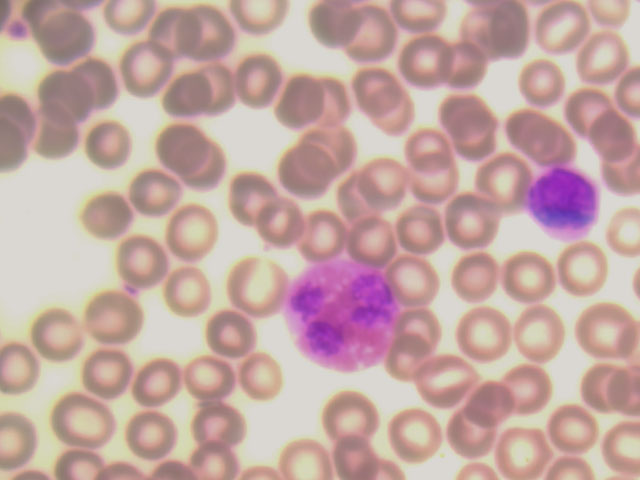Platelets: (4, 16, 29, 47)
RBC: (344, 58, 411, 121), (332, 4, 399, 67), (385, 22, 452, 85), (434, 35, 501, 98), (439, 93, 506, 156), (506, 98, 573, 161), (511, 50, 578, 113), (471, 149, 538, 212), (447, 193, 514, 256), (398, 198, 465, 261), (391, 247, 458, 310), (442, 244, 509, 307), (497, 245, 564, 308), (546, 238, 613, 301), (573, 300, 640, 363), (511, 301, 578, 364), (459, 301, 526, 364), (412, 349, 479, 412), (398, 300, 465, 363), (226, 256, 293, 319), (160, 264, 227, 327), (196, 297, 263, 360), (180, 340, 247, 403), (125, 357, 192, 420), (89, 348, 156, 411), (80, 289, 147, 352), (26, 298, 93, 361), (45, 386, 112, 449), (114, 406, 181, 469), (181, 390, 248, 453), (314, 379, 381, 442), (325, 417, 392, 480), (377, 404, 444, 467), (425, 408, 492, 471), (463, 364, 530, 427), (494, 357, 561, 420), (537, 394, 604, 457), (492, 417, 559, 480), (562, 357, 629, 420), (567, 89, 634, 152), (573, 27, 640, 90), (528, 1, 595, 64), (37, 10, 98, 63), (71, 57, 132, 110), (36, 70, 96, 123), (25, 110, 85, 163), (82, 118, 142, 171), (130, 164, 190, 217), (75, 190, 135, 243), (108, 233, 168, 286), (161, 205, 221, 258), (160, 120, 220, 173), (158, 74, 218, 127), (125, 44, 185, 97), (142, 5, 202, 58), (187, 5, 247, 58), (232, 48, 292, 101), (198, 63, 258, 116), (270, 75, 330, 128), (302, 119, 362, 172), (282, 141, 342, 194), (225, 176, 285, 229), (250, 196, 310, 249), (292, 211, 352, 264), (339, 214, 399, 267), (333, 176, 393, 229), (403, 151, 463, 204), (393, 125, 453, 178), (369, 88, 429, 141), (458, 1, 524, 47)
WBC: (286, 261, 400, 374), (527, 167, 599, 239)
